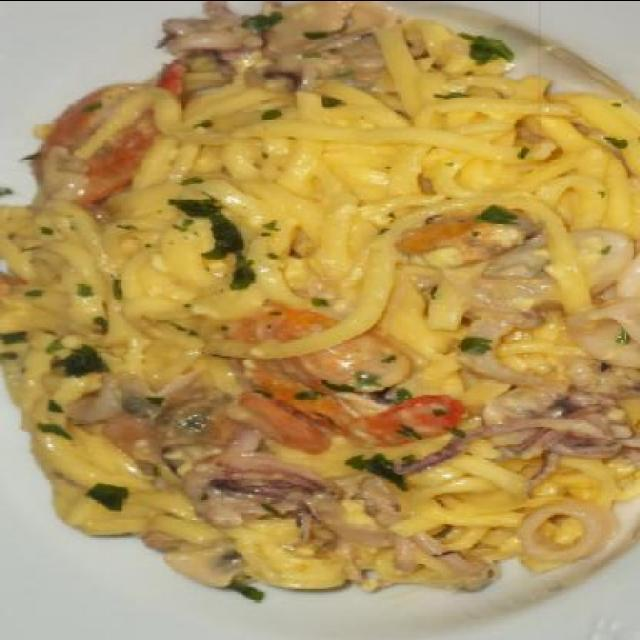Pasta with carbonara sauce: (11, 1, 631, 604)
